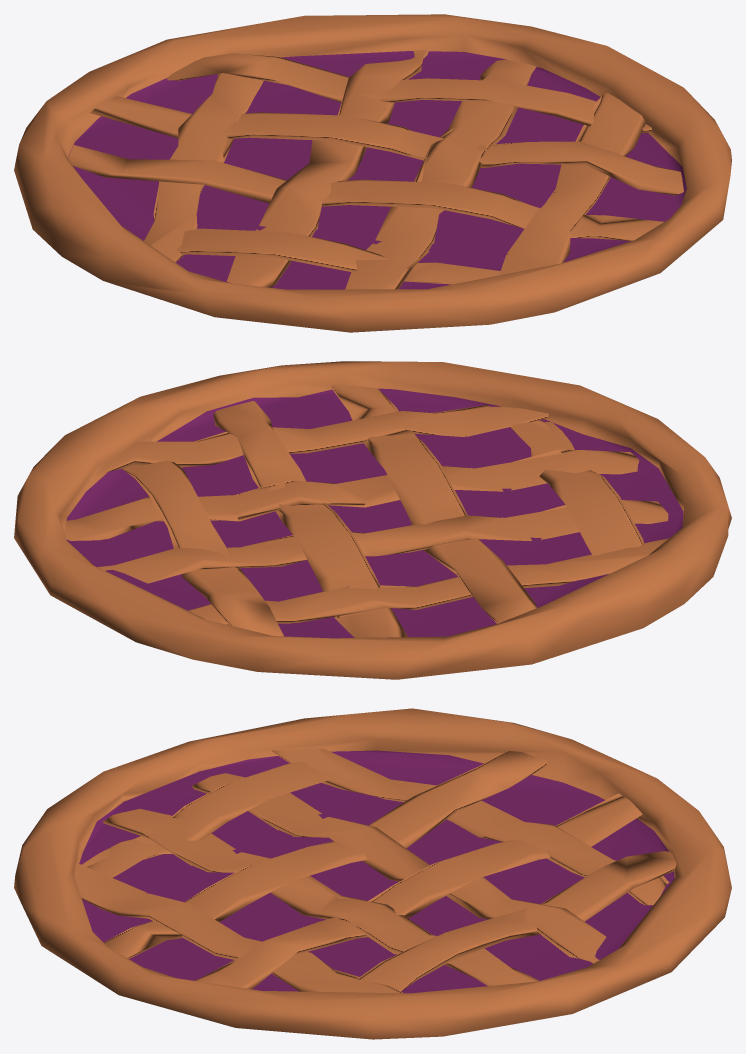
File: crostata_LOD2.fbx
The picture shows the model from 3 angles, top to bottom: view 1: azimuth 30°, elevation 25°; view 2: azimuth 150°, elevation 25°; view 3: azimuth 270°, elevation 25°; orthographic projection.
Parts seen in each view (by area): view 1: Cube_001; view 2: Cube_001; view 3: Cube_001.
Boxes of the visible parts, <box> form: Cube_001: <box>14,14,731,332</box>; Cube_001: <box>14,361,731,679</box>; Cube_001: <box>14,708,731,1039</box>.
Bounding box in the file's own units: 81.04 × 5.77 × 81.04.
